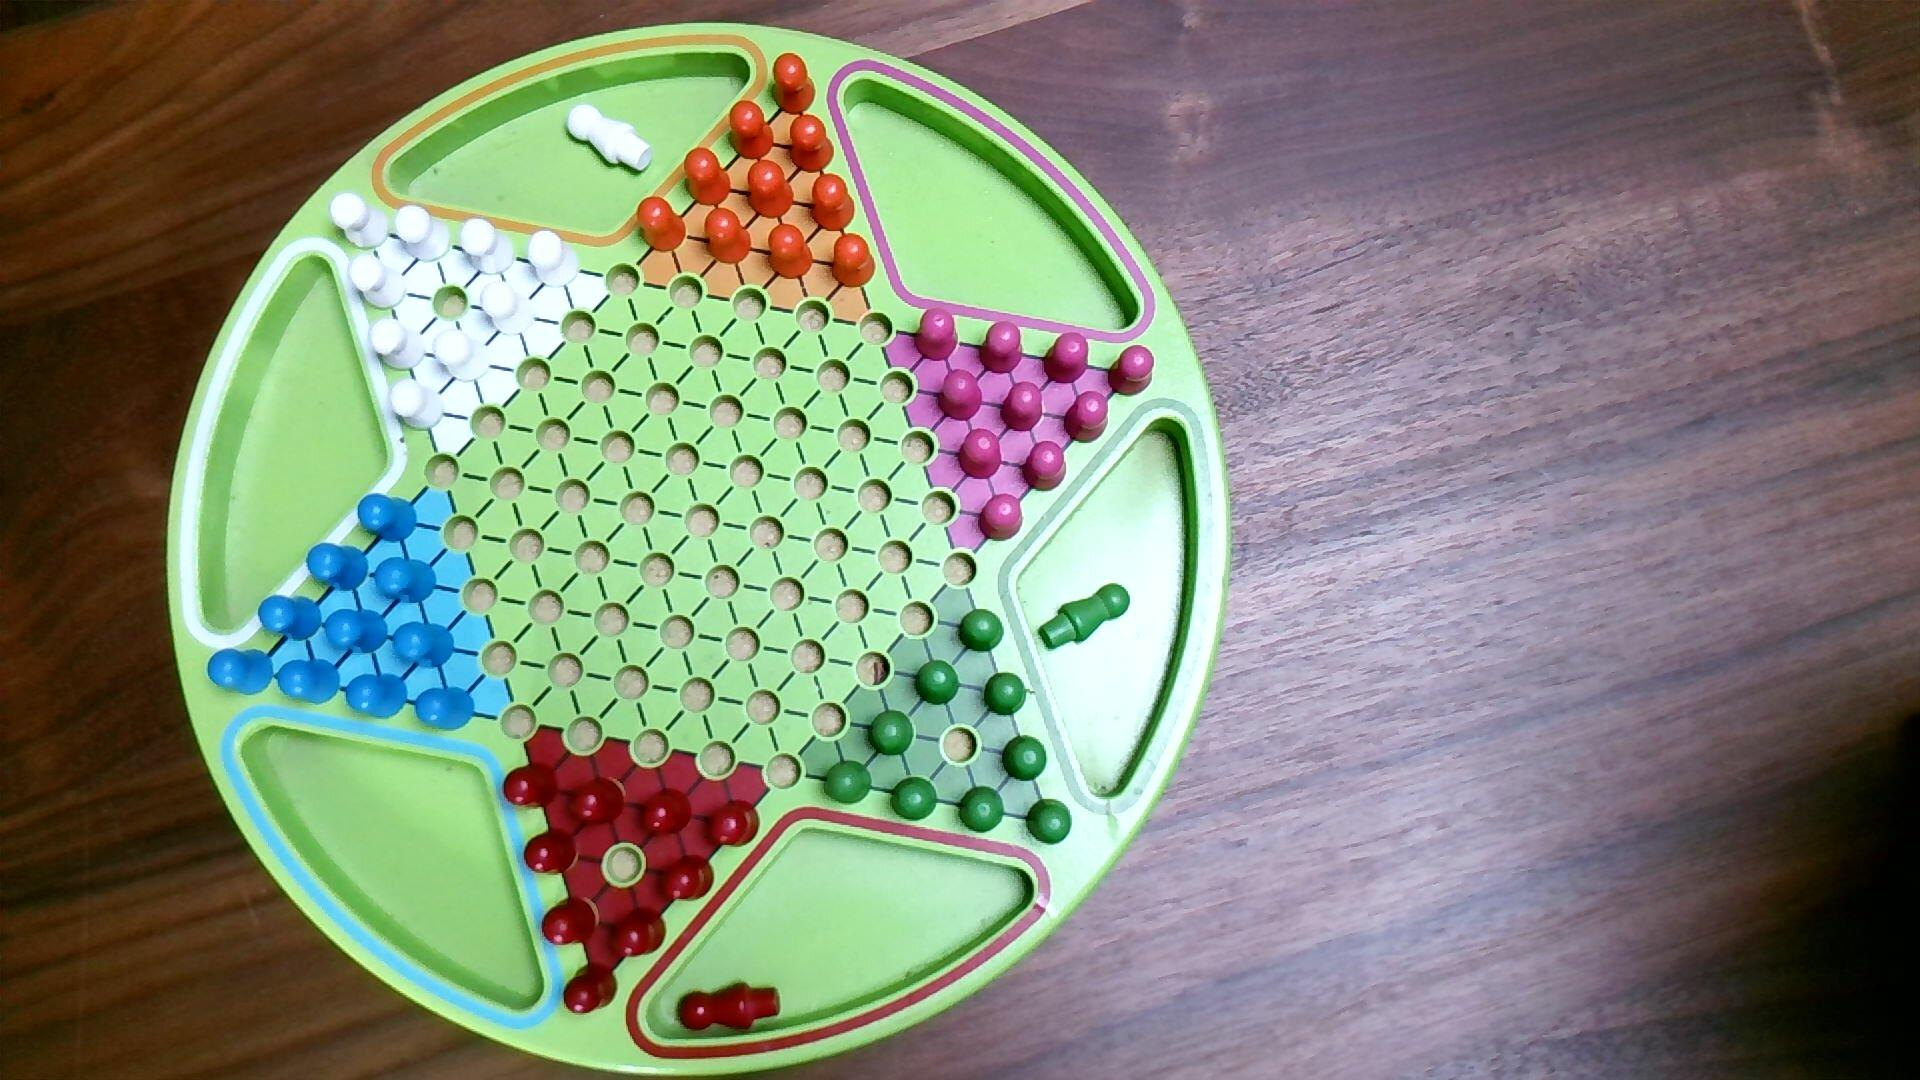B: (207, 647, 277, 698), (372, 555, 438, 608), (390, 620, 458, 671), (305, 542, 371, 593), (357, 492, 419, 546), (323, 608, 392, 657), (258, 593, 324, 644), (276, 657, 342, 707), (345, 673, 410, 723), (415, 686, 477, 735)
G: (866, 709, 918, 760), (956, 785, 1007, 835), (822, 760, 874, 808), (889, 774, 939, 824), (1000, 735, 1048, 785), (957, 607, 1007, 655), (1025, 798, 1073, 847), (914, 659, 963, 708), (982, 670, 1029, 719)
O: (703, 204, 754, 266), (682, 145, 732, 208), (746, 158, 796, 222), (636, 195, 688, 255), (787, 113, 837, 175), (771, 51, 818, 117), (808, 171, 857, 233), (727, 99, 775, 161), (766, 222, 815, 282), (829, 233, 878, 290)
R: (609, 905, 669, 960), (566, 774, 626, 828), (541, 893, 599, 948), (562, 963, 621, 1017), (705, 798, 764, 851), (658, 853, 717, 903), (522, 828, 582, 878), (502, 762, 562, 812), (637, 787, 694, 837)
R2: (935, 365, 985, 423), (1105, 344, 1156, 400), (976, 320, 1026, 377), (911, 307, 961, 364), (1062, 390, 1112, 446), (1040, 331, 1091, 386), (955, 427, 1004, 483), (976, 492, 1025, 545), (1021, 439, 1068, 493), (998, 380, 1044, 435)
W: (328, 193, 392, 252), (394, 204, 455, 265), (349, 252, 409, 313), (460, 216, 518, 278), (431, 327, 495, 384), (479, 280, 538, 338), (526, 229, 583, 290), (368, 316, 429, 373), (389, 377, 448, 434)
